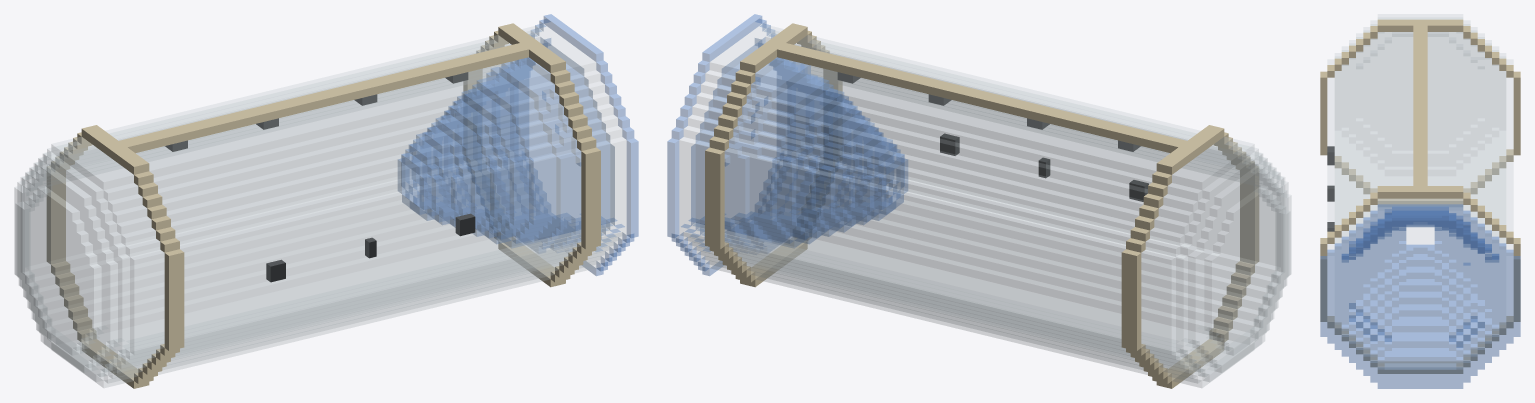
File: fish_trap.glb
The picture shows the model from 3 angles, left to right: view 1: azimuth 30°, elevation 25°; view 2: azimuth 150°, elevation 25°; view 3: azimuth 270°, elevation 25°; orthographic projection. The views are drawn at different scales.
Parts seen in each view (by area): view 1: fish_trap:compound; view 2: fish_trap:compound; view 3: fish_trap:compound.
Boxes of the visible parts, left/top/right/bottom form: fish_trap:compound: left=14, top=14, right=638, bottom=388; fish_trap:compound: left=667, top=14, right=1291, bottom=388; fish_trap:compound: left=1320, top=14, right=1520, bottom=388.
Bounding box in the file's own units: 0.276 × 0.112 × 0.112.
